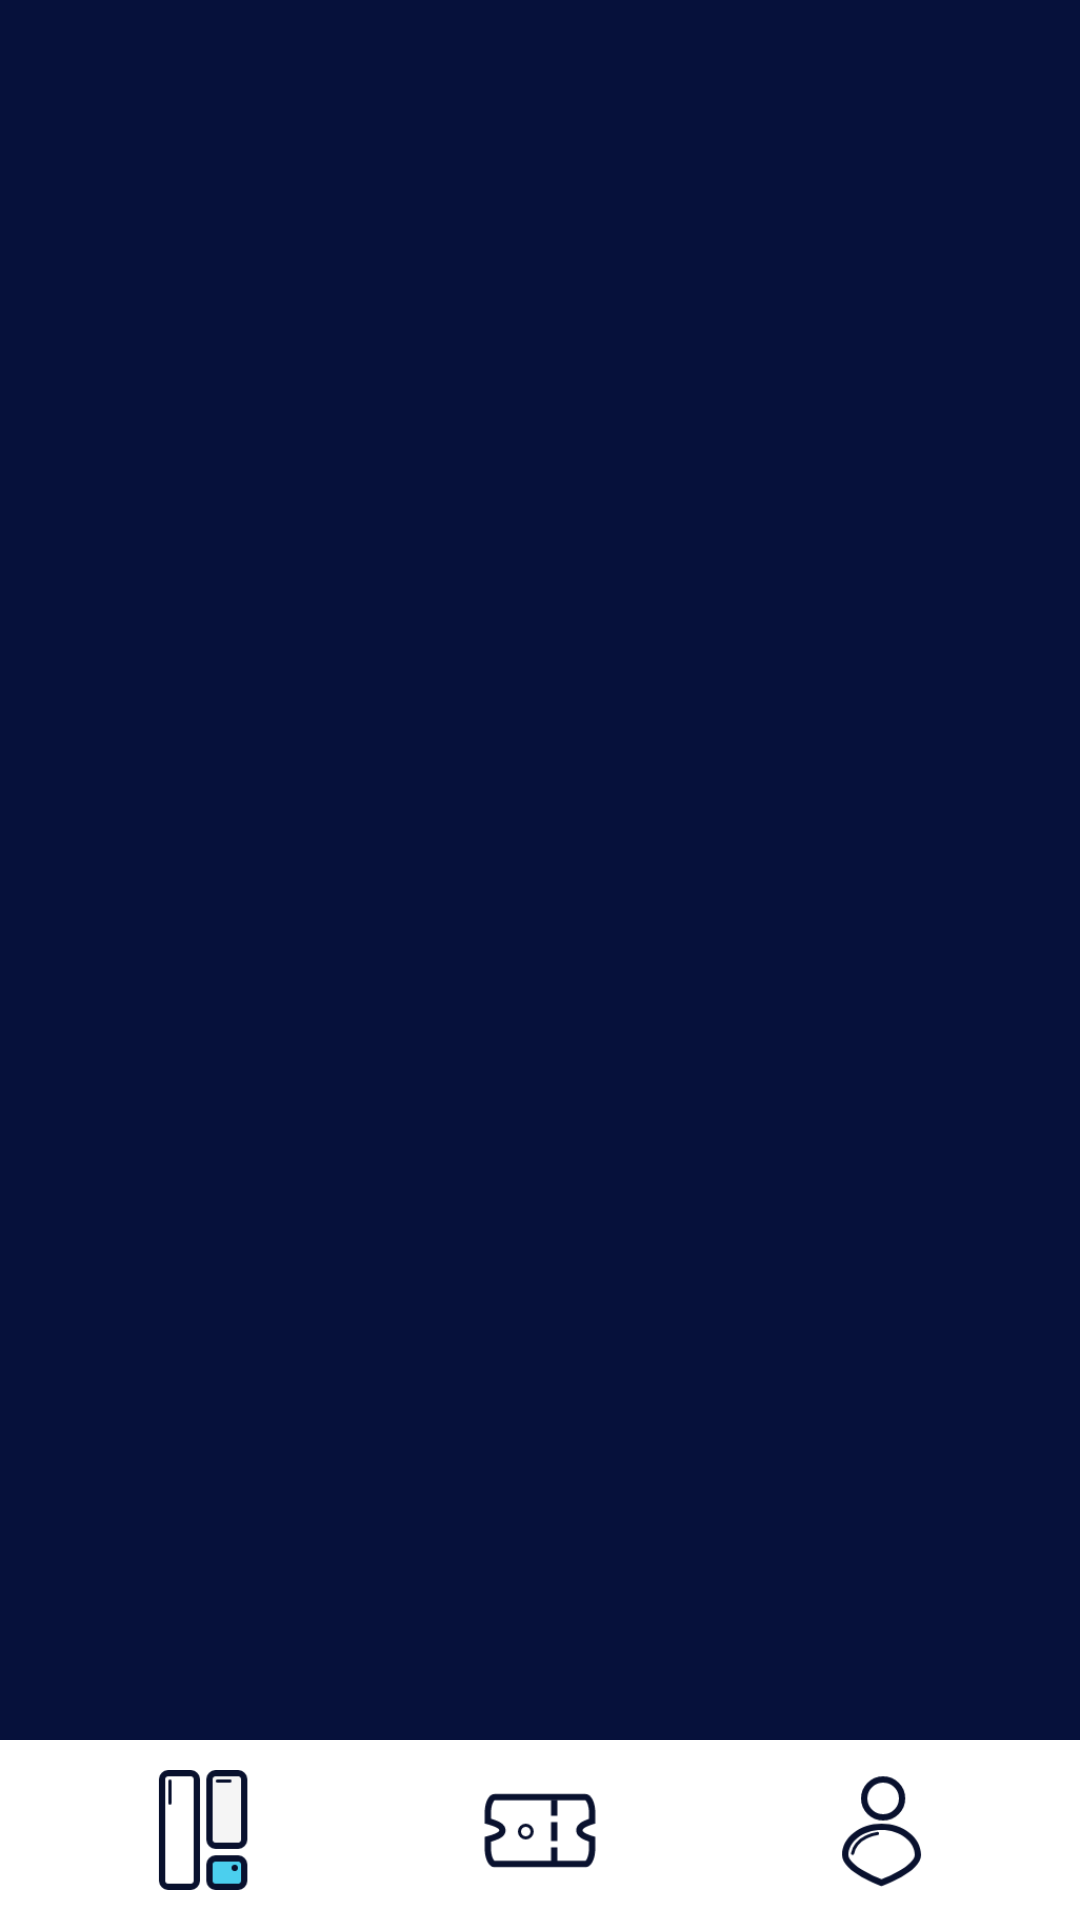

Where to tap for icons on this 1080px×1920px app screen, as [x,y]:
home: [203,1830]
profile: [881,1831]
ticket: [540,1830]
